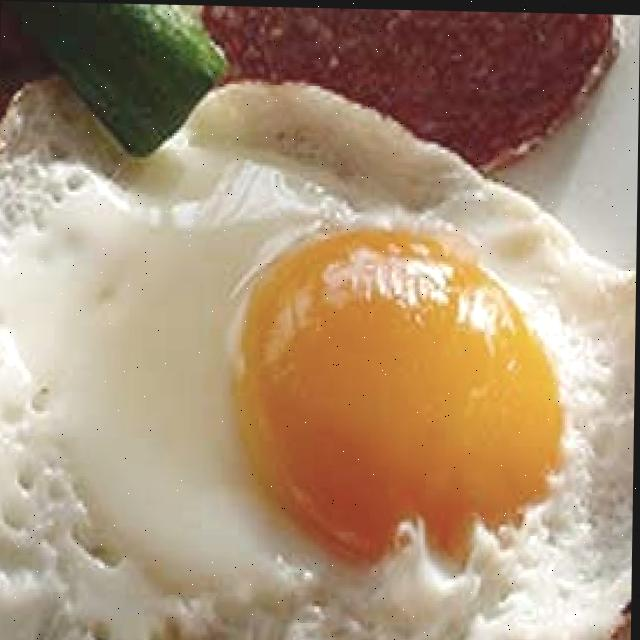鸡蛋料理: (0, 125, 639, 640)
